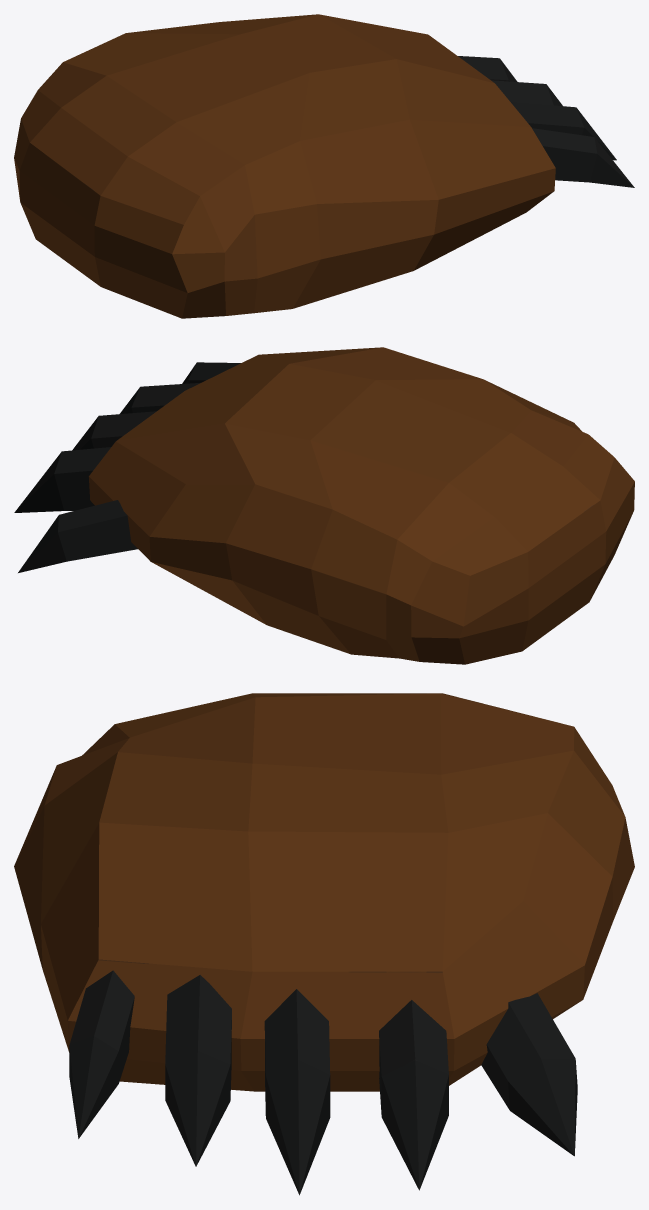
File: Paw_v06 1.fbx
3 views of the same model, one above another, from view 1: azimuth 30°, elevation 25°; view 2: azimuth 150°, elevation 25°; view 3: azimuth 270°, elevation 25° (orthographic). The views are drawn at different scales.
Visible parts, largest first — view 1: Circle; view 2: Circle; view 3: Circle.
Part boxes in pixels (x1,y1,x2,y2): Circle: (14, 14, 634, 318); Circle: (14, 347, 634, 664); Circle: (14, 693, 634, 1195).
Size of the model in its own units: 207 by 63.1 by 151.
Materials: 1 (1 with a texture image).
